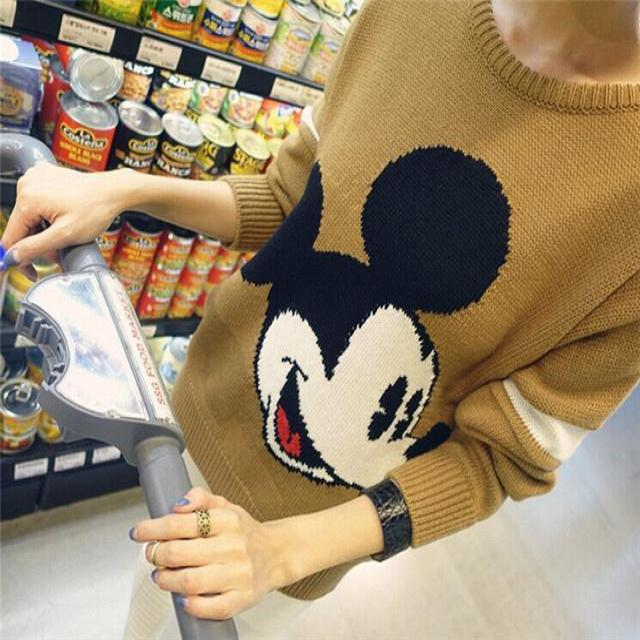long-sleeve-top: (302, 8, 640, 568)
